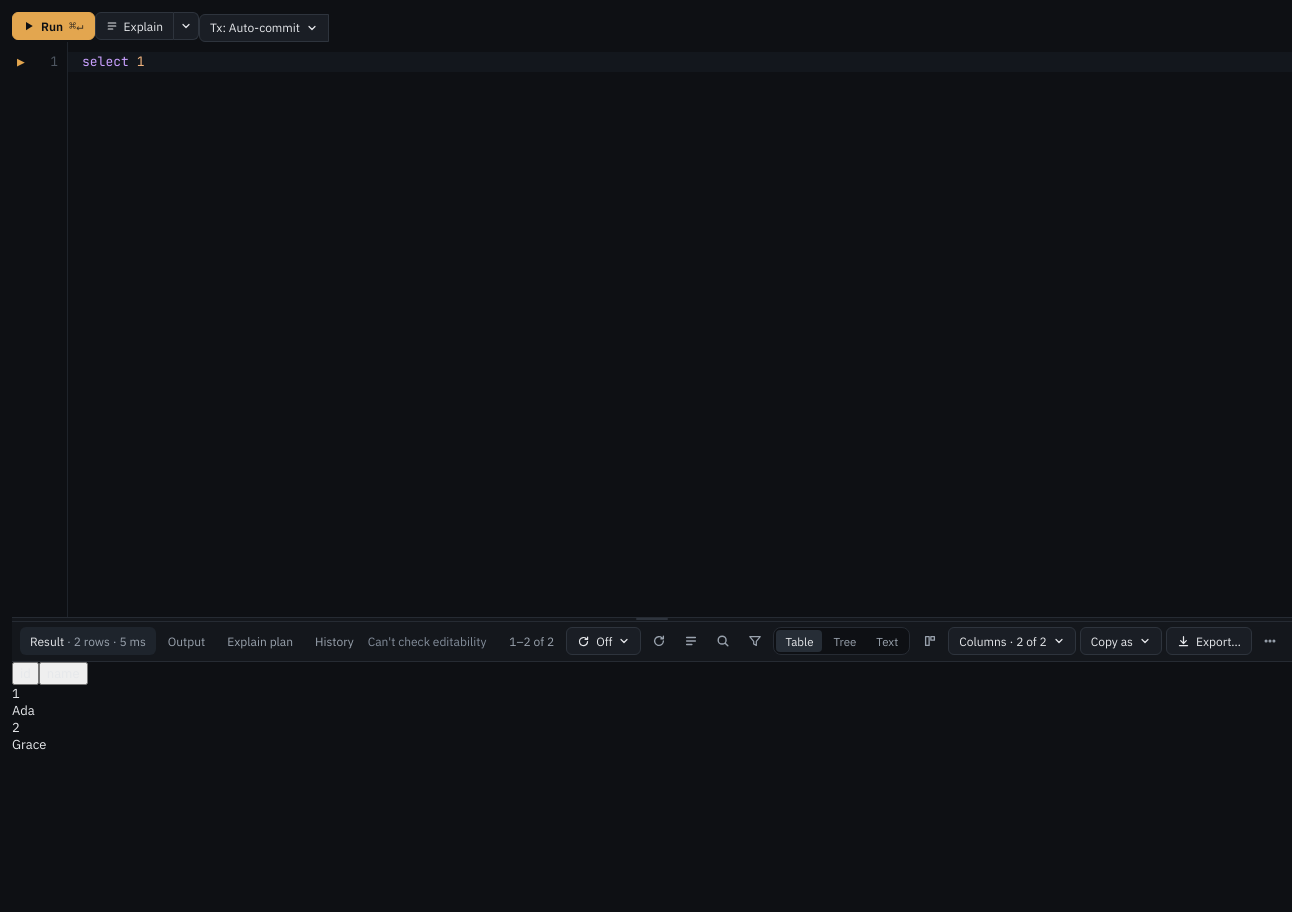
it: results › filters loaded rows and transposes
expect the text "Grace" is shown: met, box [12, 736, 46, 752]
Click the button named "Filter results": (691, 641) [677, 627, 705, 655]
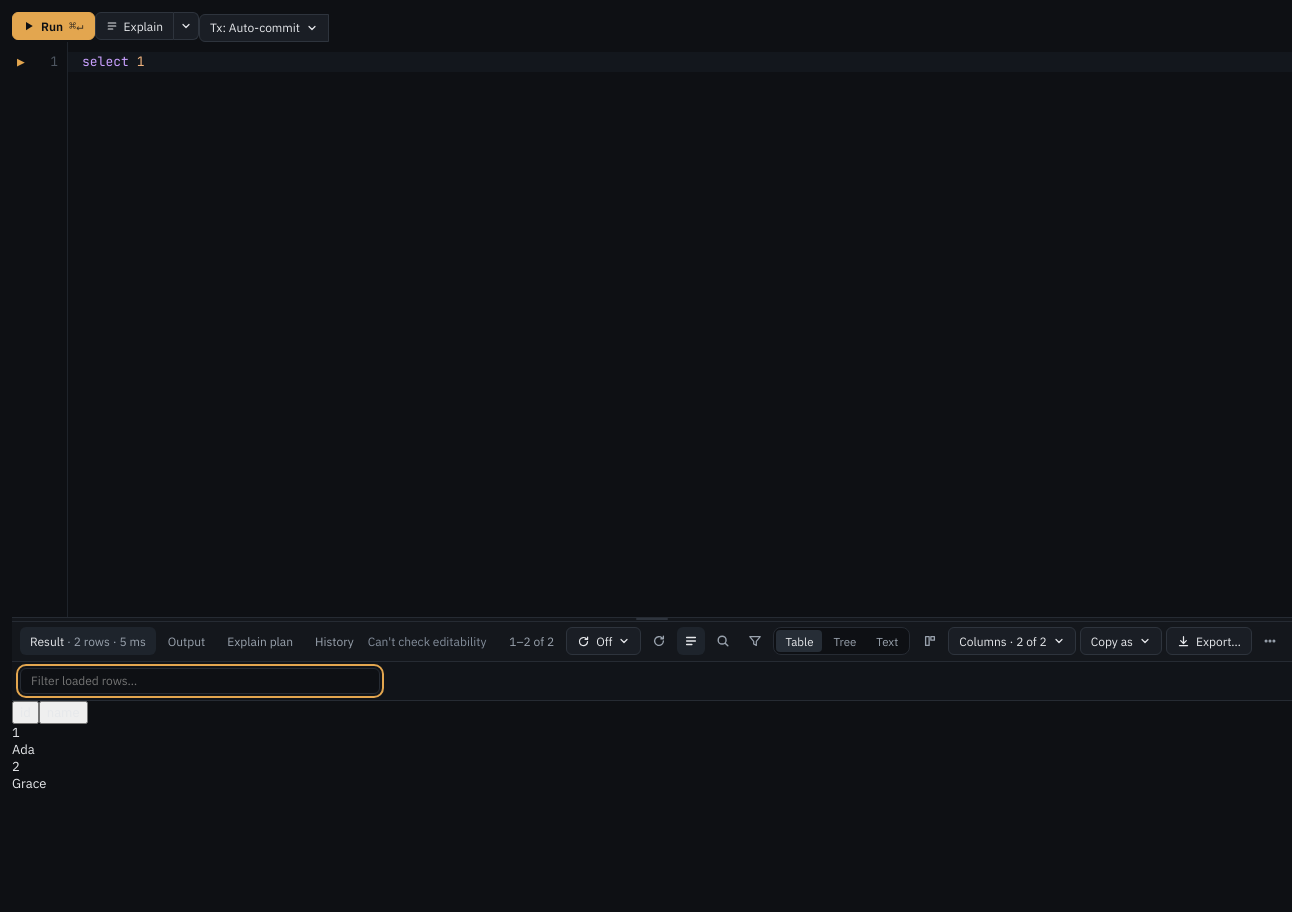
In the field named "Filter rows": (200, 680) [20, 668, 380, 694], type "gra"
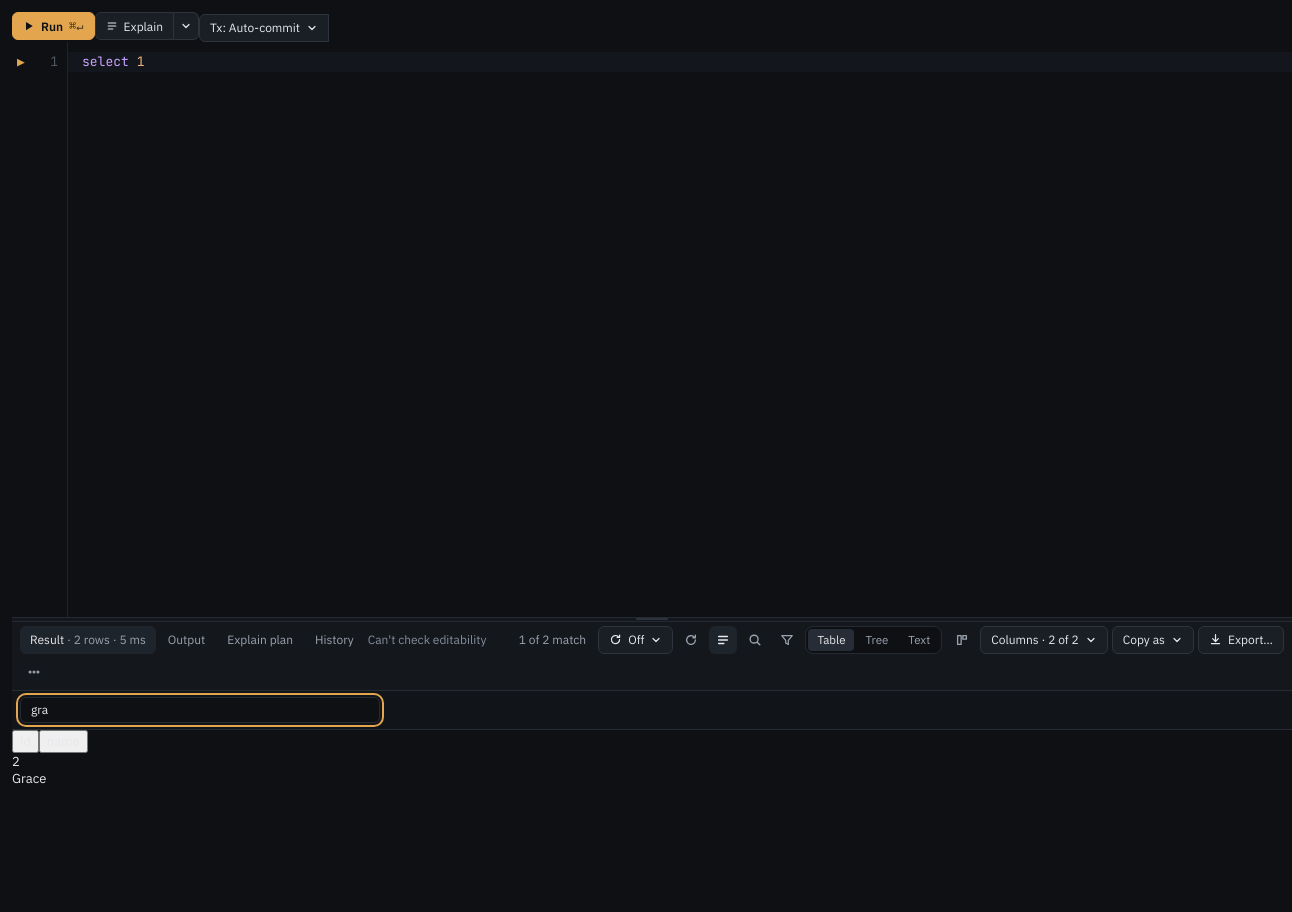
expect the text "Ada" is gone: met
expect the text "1 of 2 match" is shown: met, box [519, 632, 586, 647]
Clear the field named "Filter rows": (200, 710) [20, 696, 380, 722]
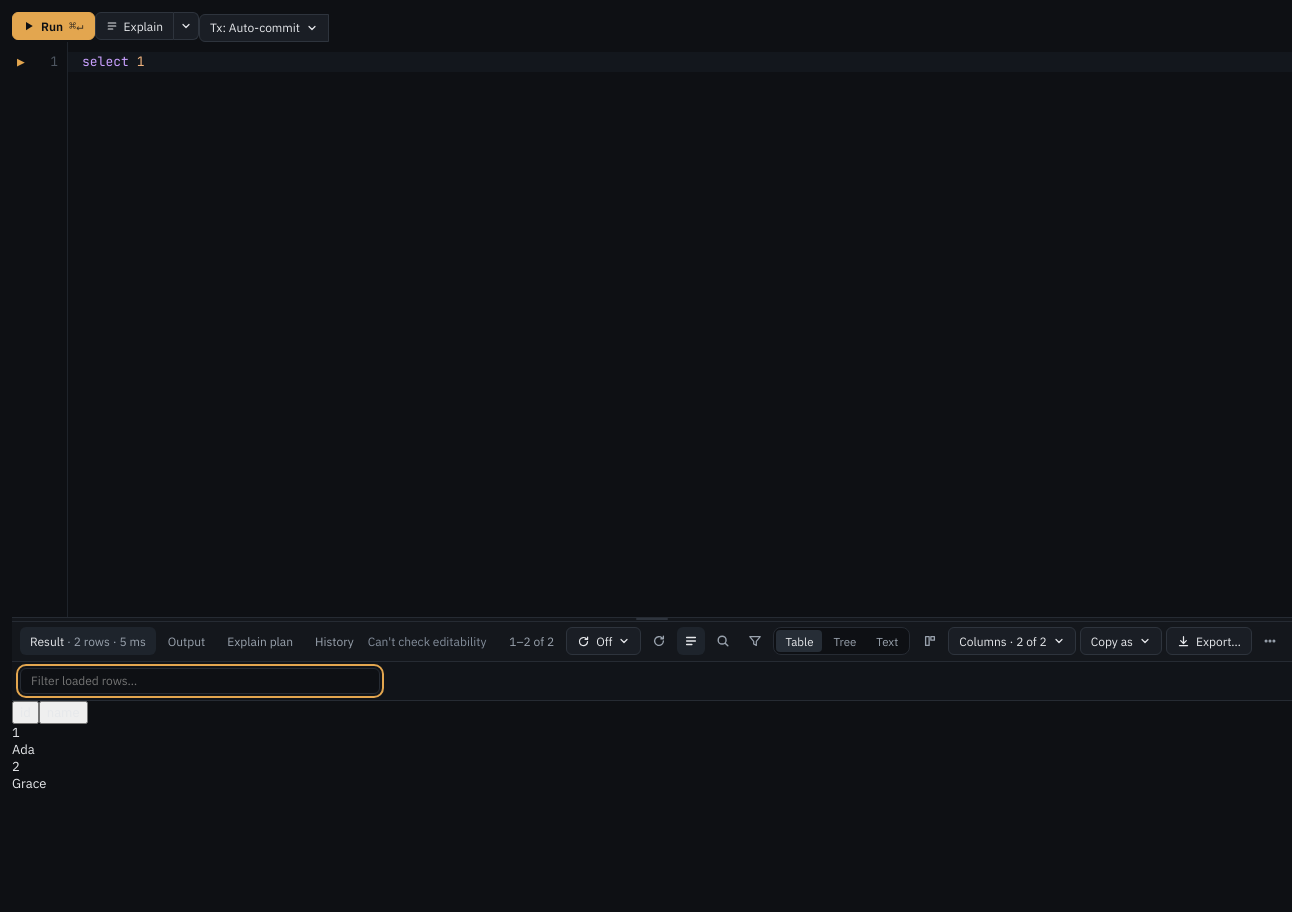
Click the button named "Transpose": (930, 641) [916, 627, 944, 655]
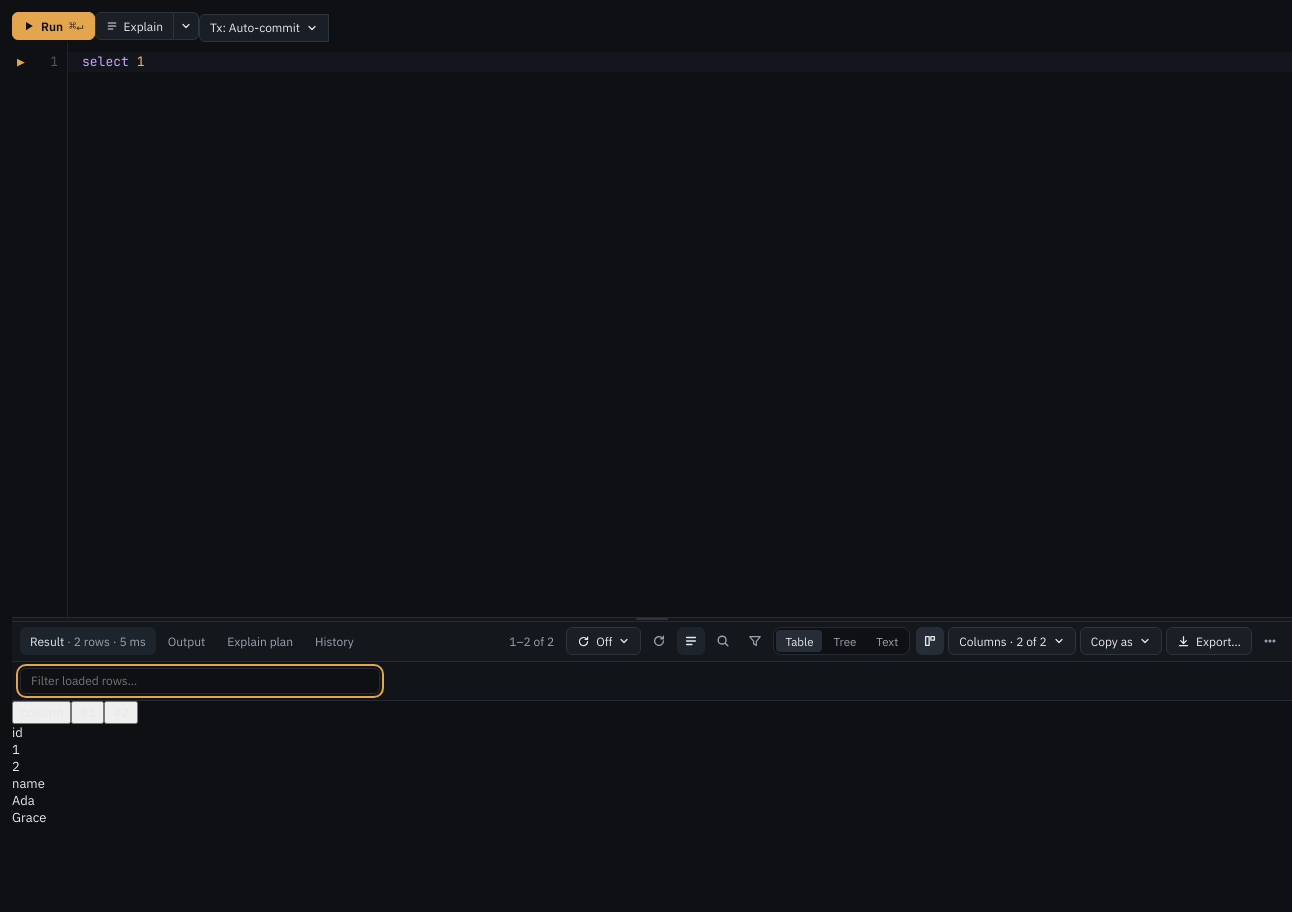
expect the column heading "column" is shown: met, box [12, 700, 71, 724]
expect the cell "name" is shown: met, box [12, 774, 45, 792]
